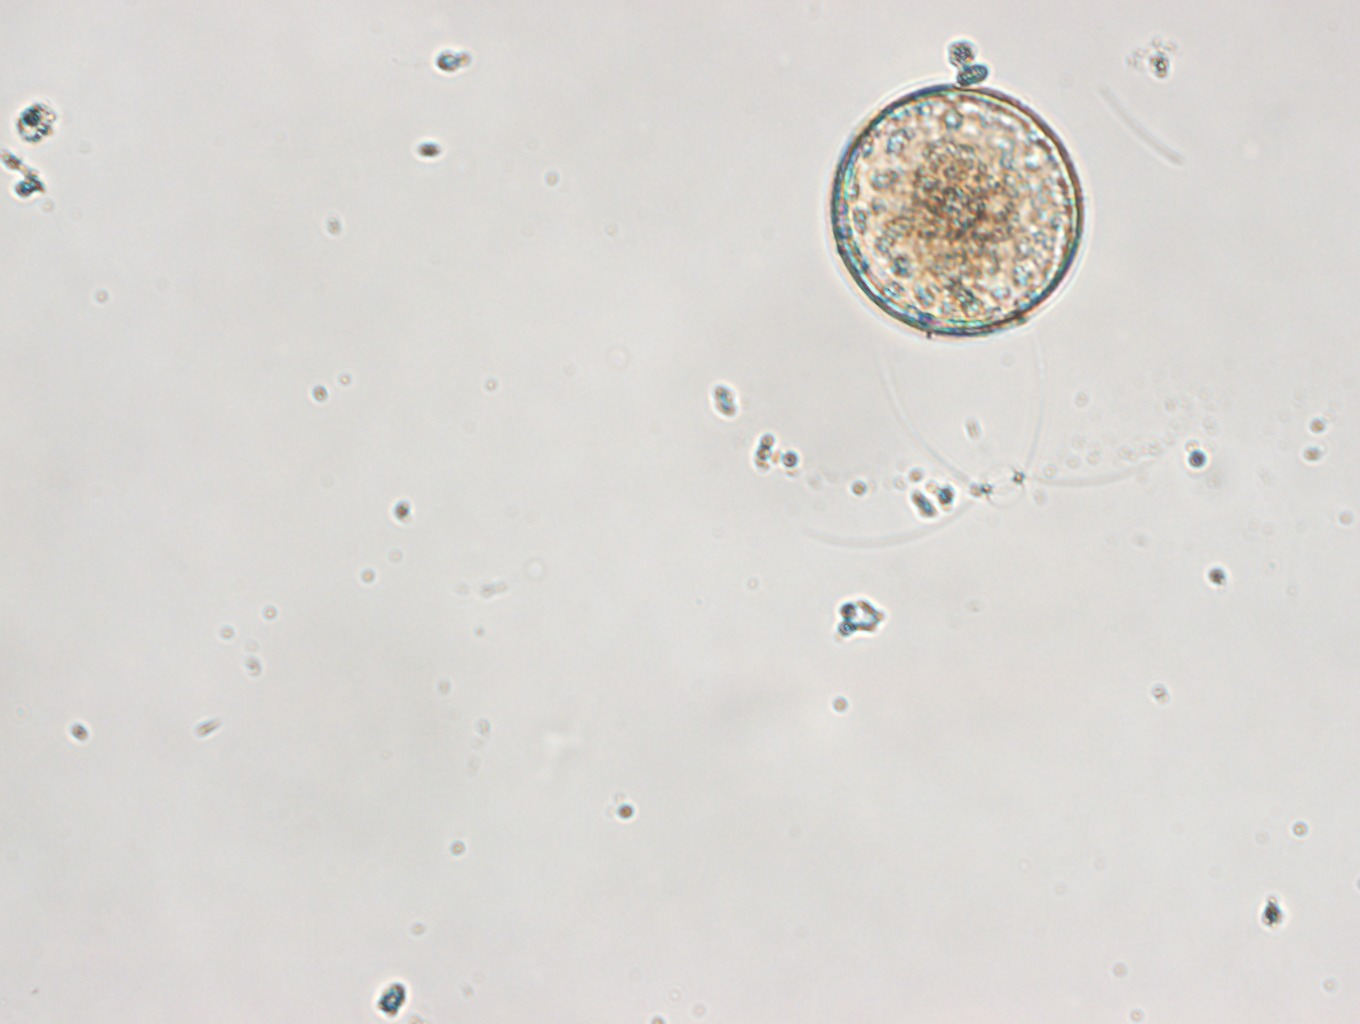coscinodiscus: (822, 87, 1098, 337)
